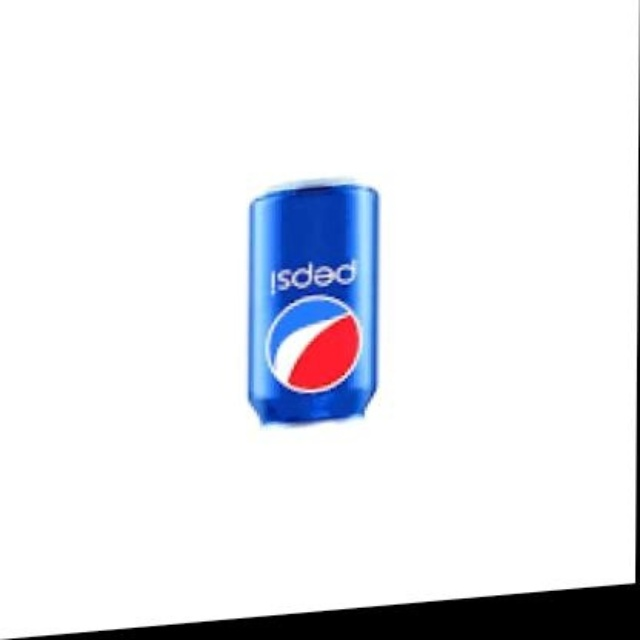trash: (249, 183, 377, 422)
